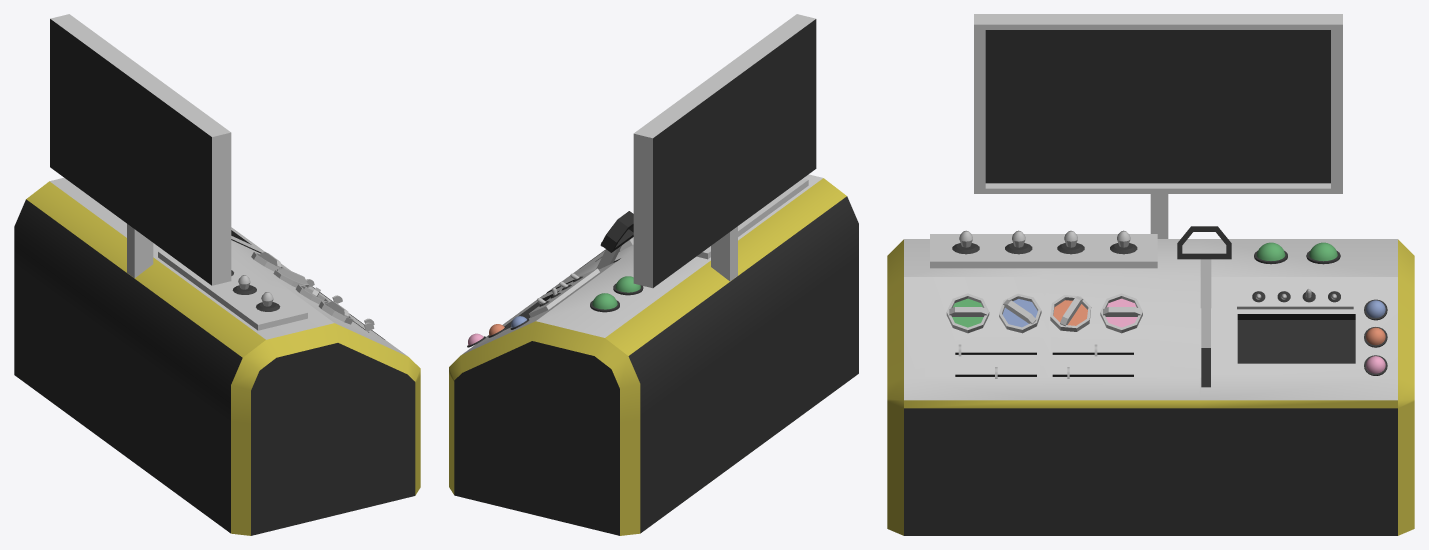
File: monitor white stand.fbx
3 renders of one model, left to right at view 1: azimuth 30°, elevation 25°; view 2: azimuth 150°, elevation 25°; view 3: azimuth 270°, elevation 25°, orthographic. The views are drawn at different scales.
Visible parts, largest first — view 1: pCube8, polySurface1, pCube4, pCube12; view 2: pCube8, polySurface1, pCube12, pCube11, pCube4, pasted__pCube4; view 3: pCube8, polySurface1, pCube4, pasted__pCube4, pasted__pCylinder3 (×2), pCube11, pCylinder3, pasted__pasted__pCylinder3, pCube12.
Part boxes in pixels (x1,y1,x2,y2): pCube8: [14, 177, 420, 535]; polySurface1: [50, 14, 231, 285]; pCube4: [158, 250, 307, 330]; pCube12: [127, 224, 153, 278]; pCube8: [449, 174, 858, 535]; polySurface1: [633, 14, 816, 288]; pCube12: [711, 226, 737, 281]; pCube11: [596, 211, 633, 269]; pCube4: [696, 178, 808, 259]; pasted__pCube4: [529, 268, 599, 317]; pCube8: [887, 239, 1414, 535]; polySurface1: [974, 14, 1342, 193]; pCube4: [930, 234, 1157, 268]; pasted__pCube4: [1237, 283, 1353, 309]; pasted__pCylinder3 (×2): [999, 293, 1142, 333]; pCube11: [1177, 226, 1231, 347]; pCylinder3: [946, 293, 989, 333]; pasted__pasted__pCylinder3: [1050, 295, 1091, 331]; pCube12: [1150, 194, 1168, 238].
Size of the model in its own units: 3.06 by 5.72 by 6.47.
